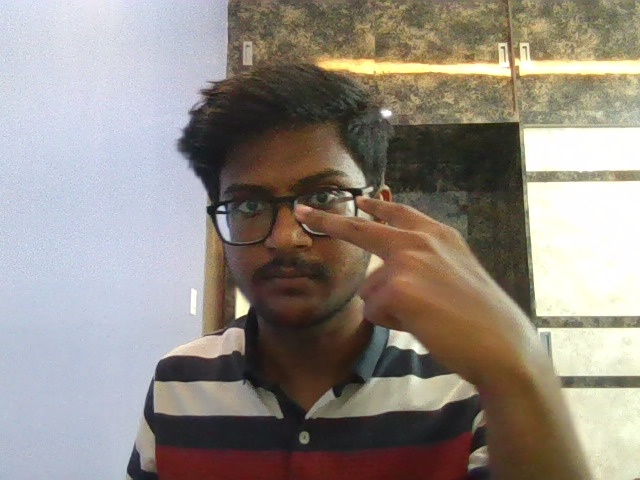see: (258, 176, 519, 373)
